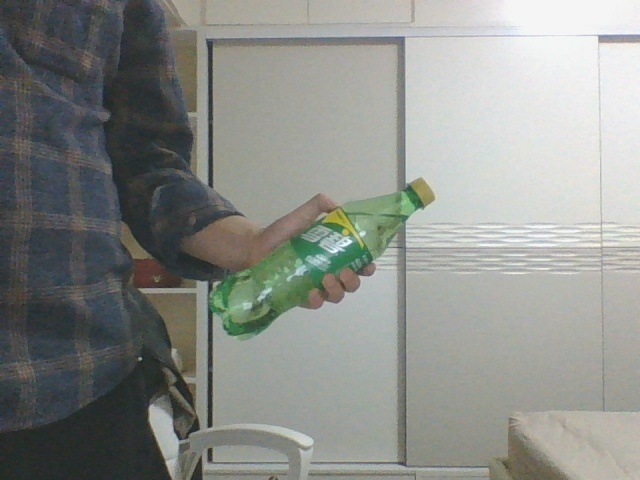Sprite: (210, 178, 436, 339)
